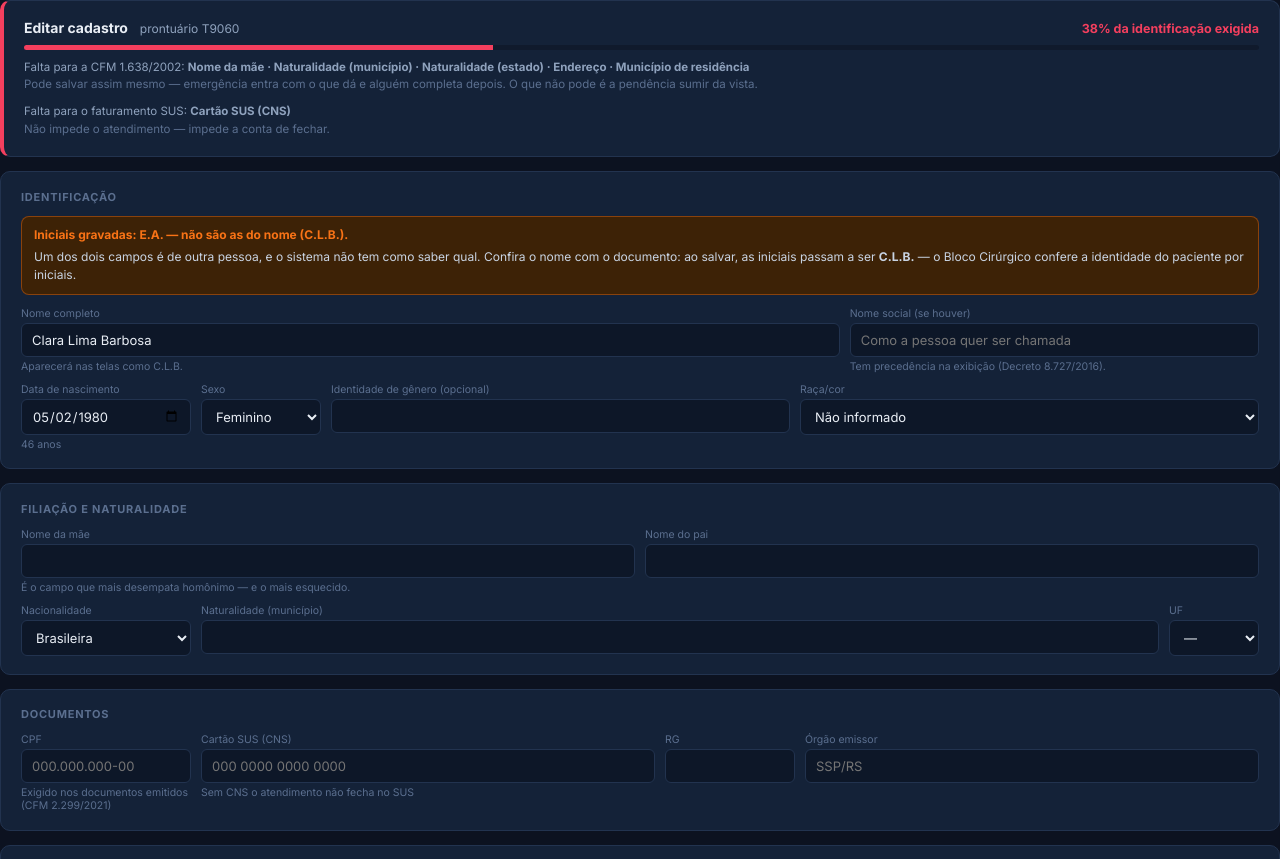
Scenario: 🔴 iniciais gravadas que não são as do nome › corrigir o nome na tela faz o aviso sumir — o aviso acompanha o formulário
expect the message is shown: met, box [21, 216, 1259, 295]
Replace the text in the field with placeholder "Como está no documento" below "Nome completo" with "Eduarda Alves": (430, 340) [21, 323, 840, 357]
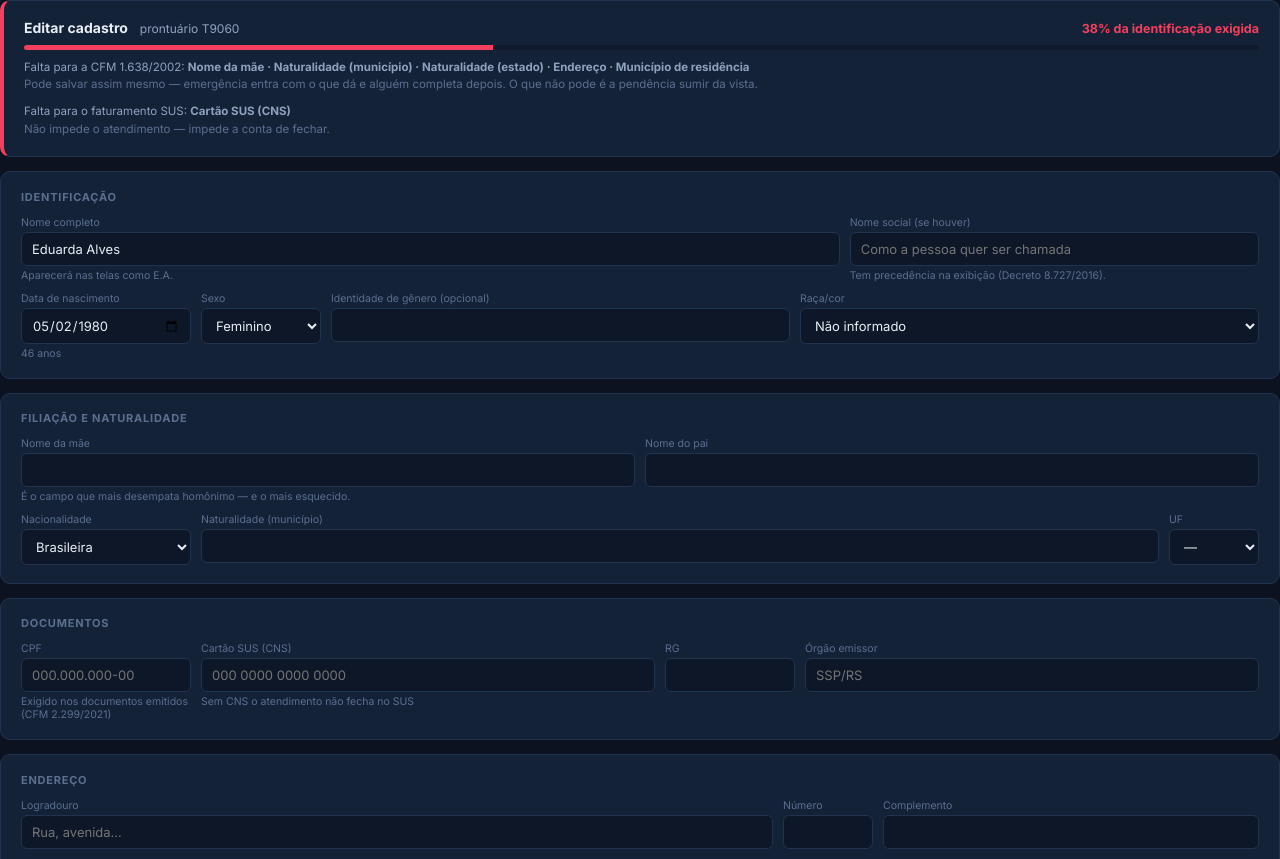
expect the message is gone: met
